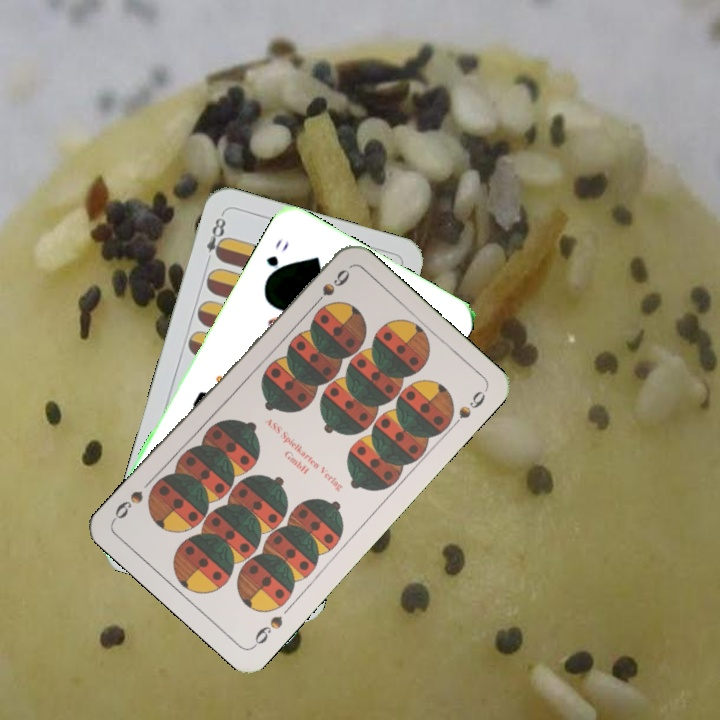E8: (201, 210, 229, 267)
GO: (261, 235, 292, 284)
S9: (307, 265, 353, 312), (249, 611, 286, 651)
